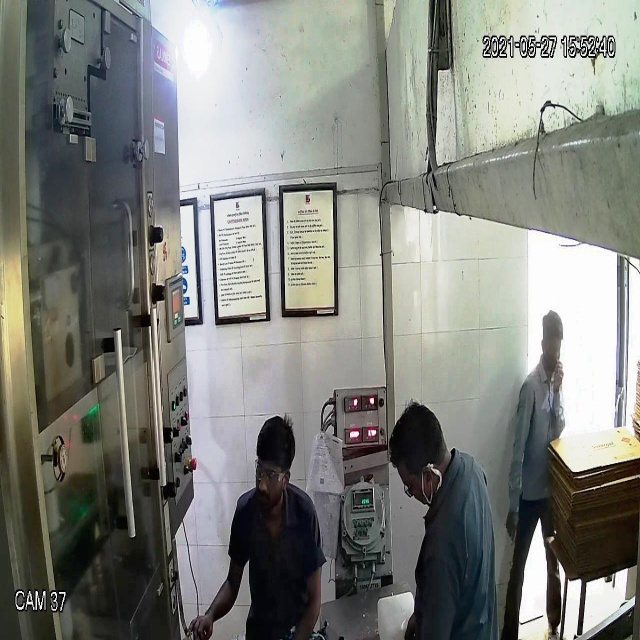Gafas: (254, 456, 290, 484)
